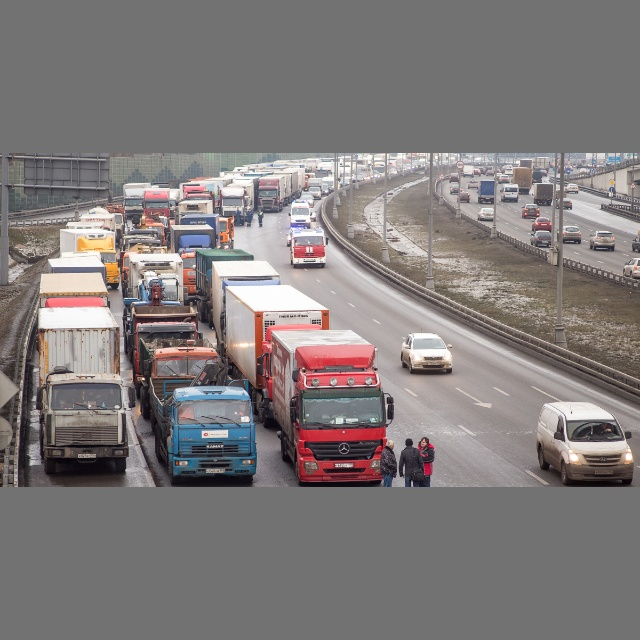Грузовик: (269, 327, 388, 484), (40, 309, 125, 472), (154, 368, 255, 478), (220, 180, 257, 224), (289, 225, 326, 267), (256, 173, 290, 212), (530, 183, 553, 205), (476, 180, 495, 202)
Фургон: (537, 400, 633, 483), (290, 203, 312, 228), (502, 184, 519, 202)
